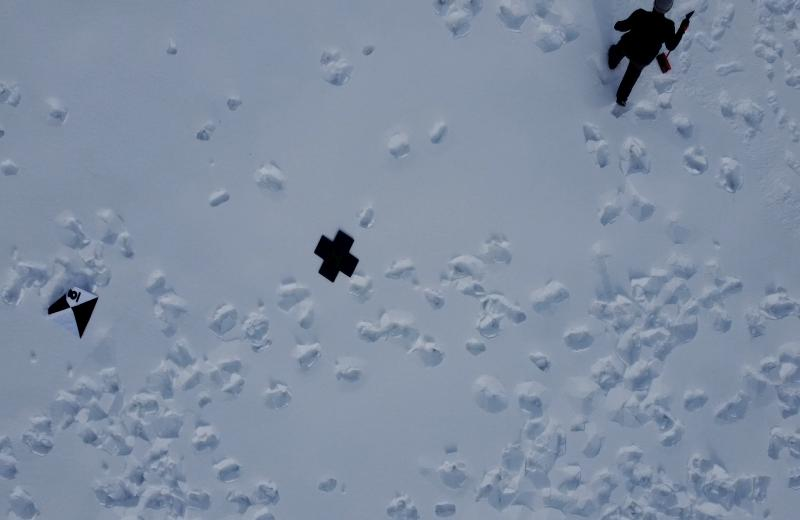Cross: (315, 229, 360, 283)
